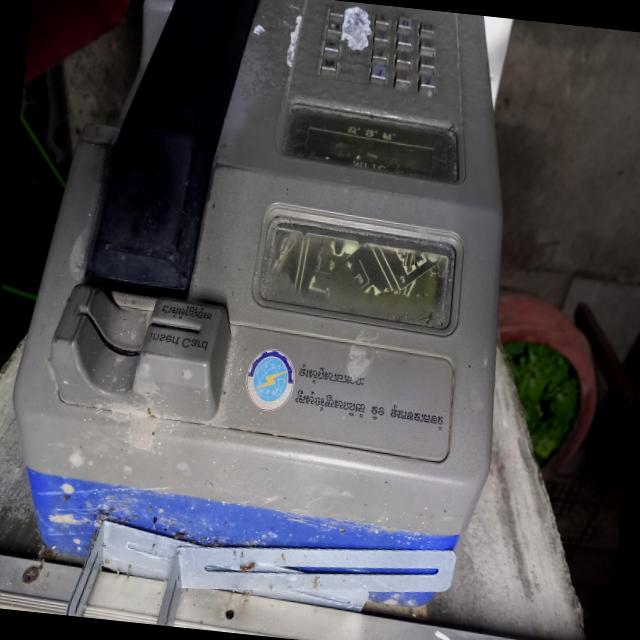Yolov11_80vkh: (292, 388, 367, 420), (297, 361, 368, 393), (389, 402, 445, 434), (158, 298, 215, 326), (346, 122, 400, 145), (368, 403, 385, 422)
